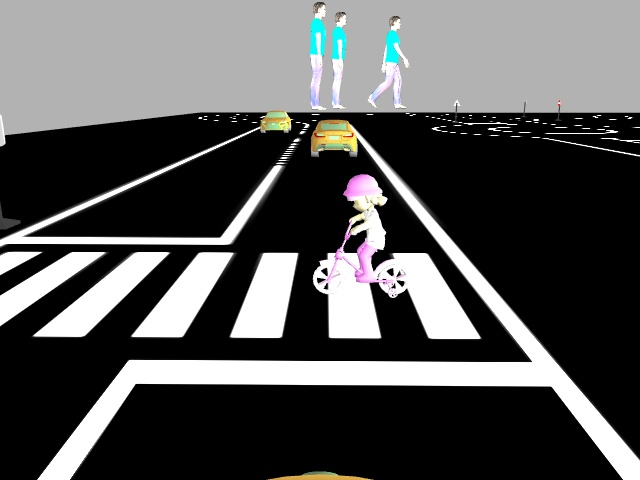Pedestrian: (312, 172, 415, 298)
